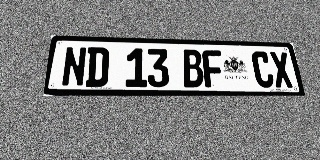1: (125, 48, 147, 87)
3: (147, 48, 169, 87)
B: (182, 49, 204, 87)
C: (250, 51, 275, 88)
D: (85, 47, 109, 87)
F: (202, 50, 225, 87)
N: (61, 46, 87, 87)
X: (269, 52, 294, 88)
